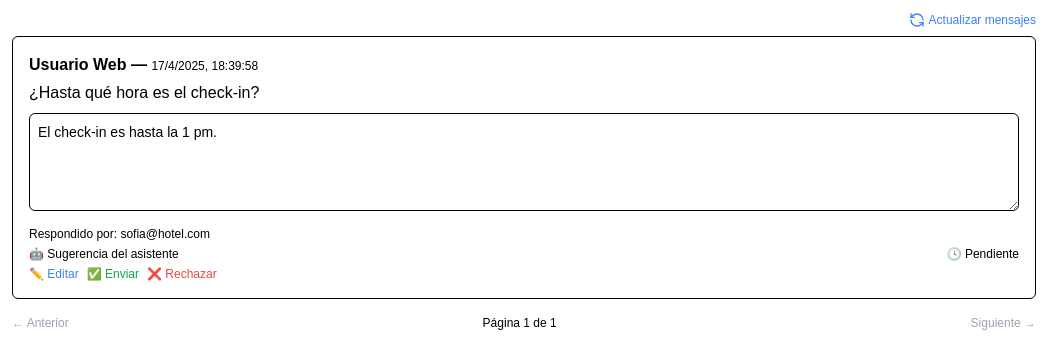
<ChannelMessages /> › permite cancelar la edición de un mensaje
Expected: the text "¿Hasta qué hora es el check-in?" is shown, [29,84,259,101]
Click the button "✏️ Editar".
click(54, 274)  # box [29,266,79,282]
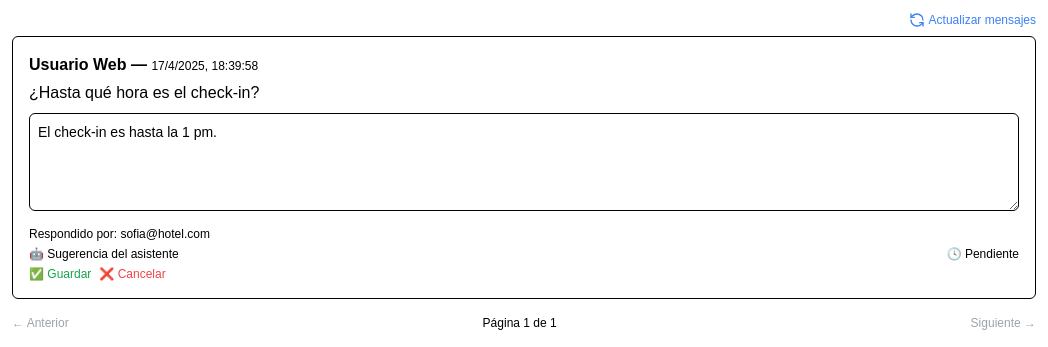
Replace the text in the text box with "Texto no guardado" at (524, 162), box [29,113,1019,211]
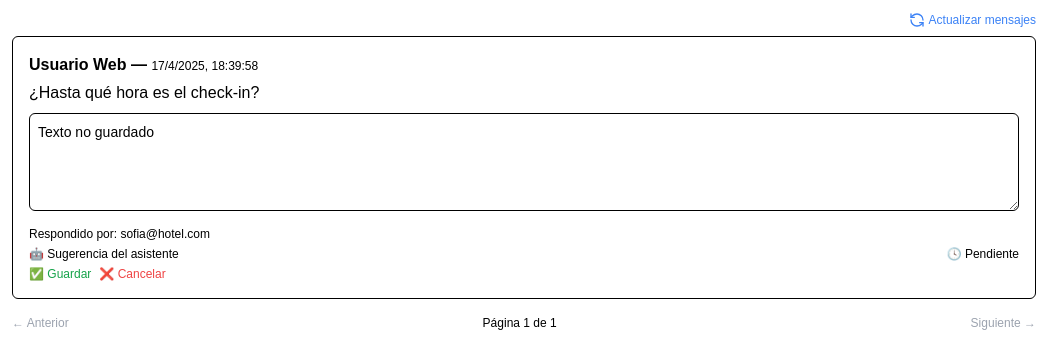
Click the button "❌ Cancelar".
click(132, 274)  # box [99,266,166,282]
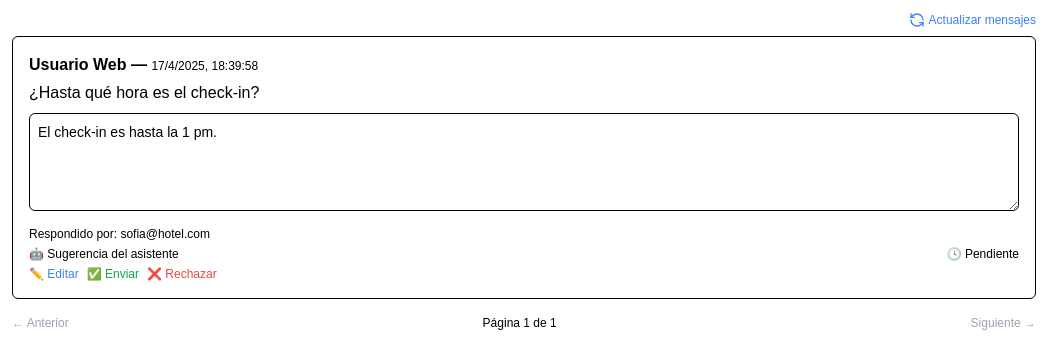
Expected: the text box showing "El check-in es hasta la 1 pm." is shown, [29,113,1019,211]
